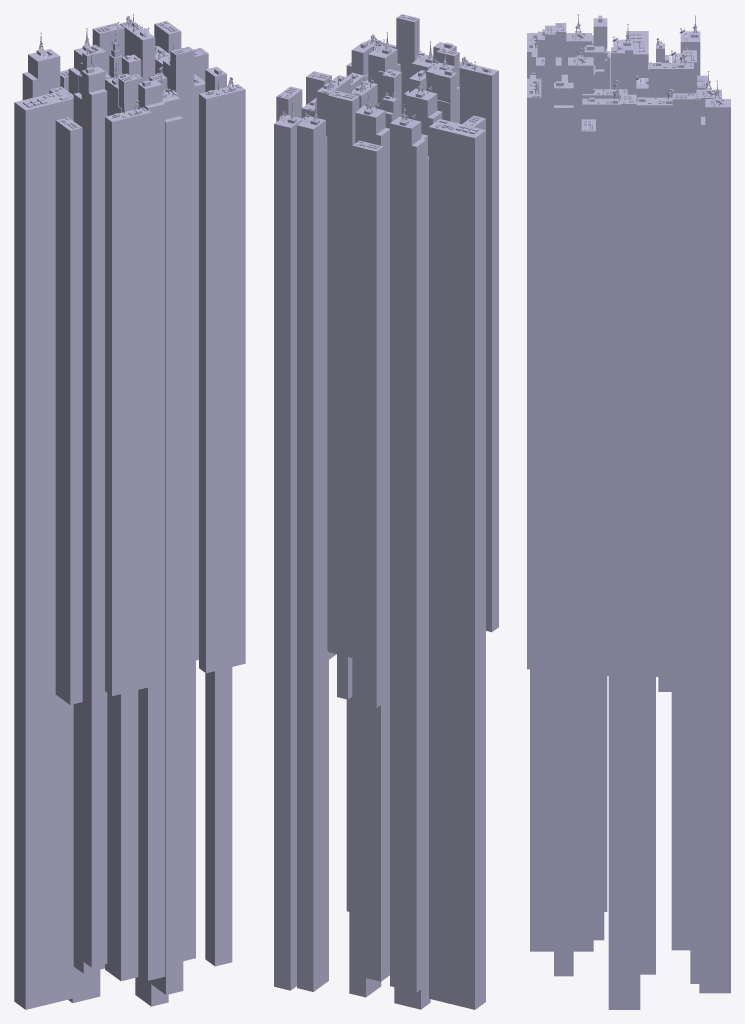
The model's file is BG6_Street.fbx.
3 views of the same model, side by side, from view 1: azimuth 30°, elevation 25°; view 2: azimuth 150°, elevation 25°; view 3: azimuth 270°, elevation 25° (orthographic). The views are drawn at different scales.
Visible parts, largest first — view 1: BGBuilding09 (×6), BGBuilding02 (×4), BGBuilding05 (×3), BGBuilding04 (×8); view 2: BGBuilding04 (×8), BGBuilding09 (×6), BGBuilding02 (×3), BGBuilding05 (×2), BGBuilding01, BGBuilding03; view 3: BGBuilding04 (×10), BGBuilding02 (×4), BGBuilding09 (×6), BGBuilding05 (×2), BGBuilding05_2, BGBuilding03.
Boxes of the visible parts, x1,y1,x2,y2 form: BGBuilding09 (×6): (14,21,194,1009); BGBuilding02 (×4): (105,16,245,696); BGBuilding05 (×3): (81,66,232,980); BGBuilding04 (×8): (22,28,195,1006); BGBuilding04 (×8): (274,32,442,1009); BGBuilding09 (×6): (276,14,485,1009); BGBuilding02 (×3): (316,56,498,650); BGBuilding05 (×2): (346,41,459,911); BGBuilding01: (337,654,352,699); BGBuilding03: (382,70,400,116); BGBuilding04 (×10): (530,14,730,1009); BGBuilding02 (×4): (527,53,693,676); BGBuilding09 (×6): (545,23,700,702); BGBuilding05 (×2): (554,15,607,976); BGBuilding05_2: (584,45,604,940); BGBuilding03: (611,45,624,89).
Size of the model in its own units: 17353 by 86854 by 16481.
